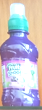blueberries: (1, 2, 41, 107)
